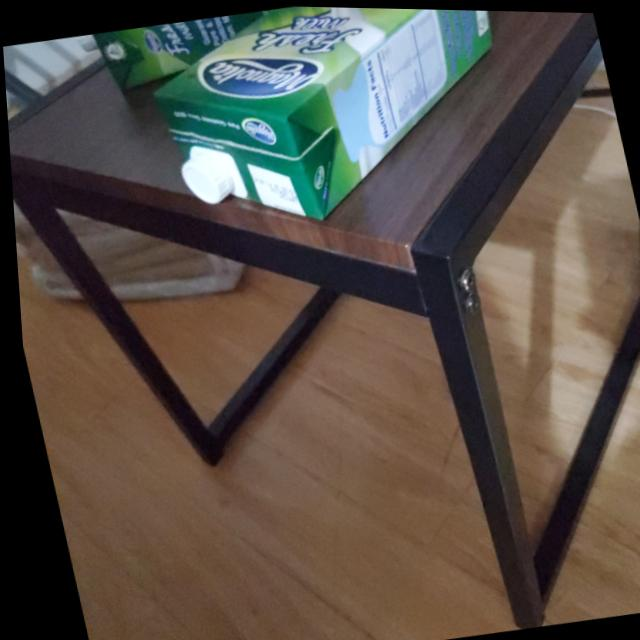milk: (140, 2, 549, 244), (97, 6, 286, 99)
